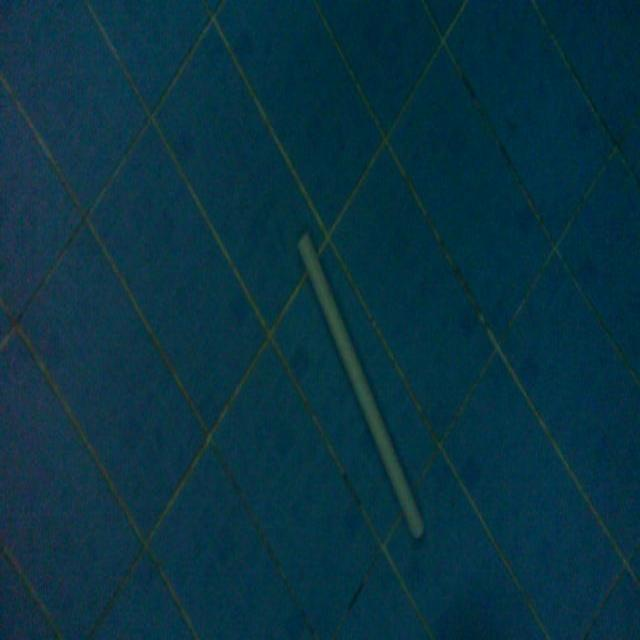Cube: (295, 226, 426, 542)
